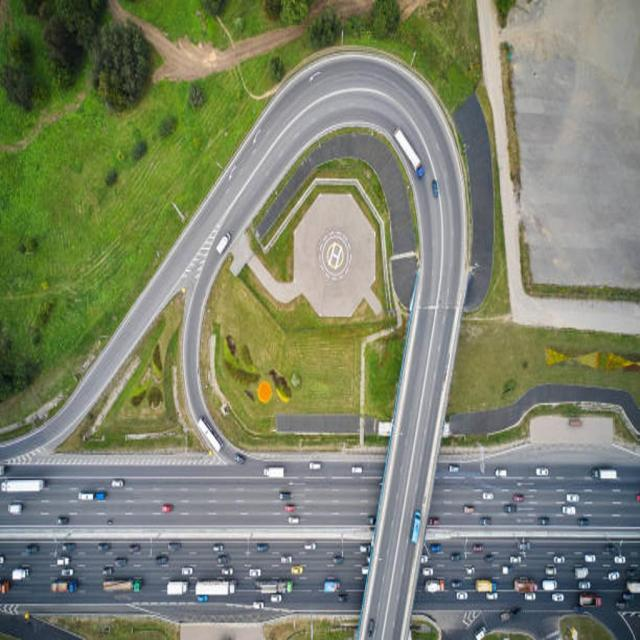helipad: (321, 234, 348, 276)
